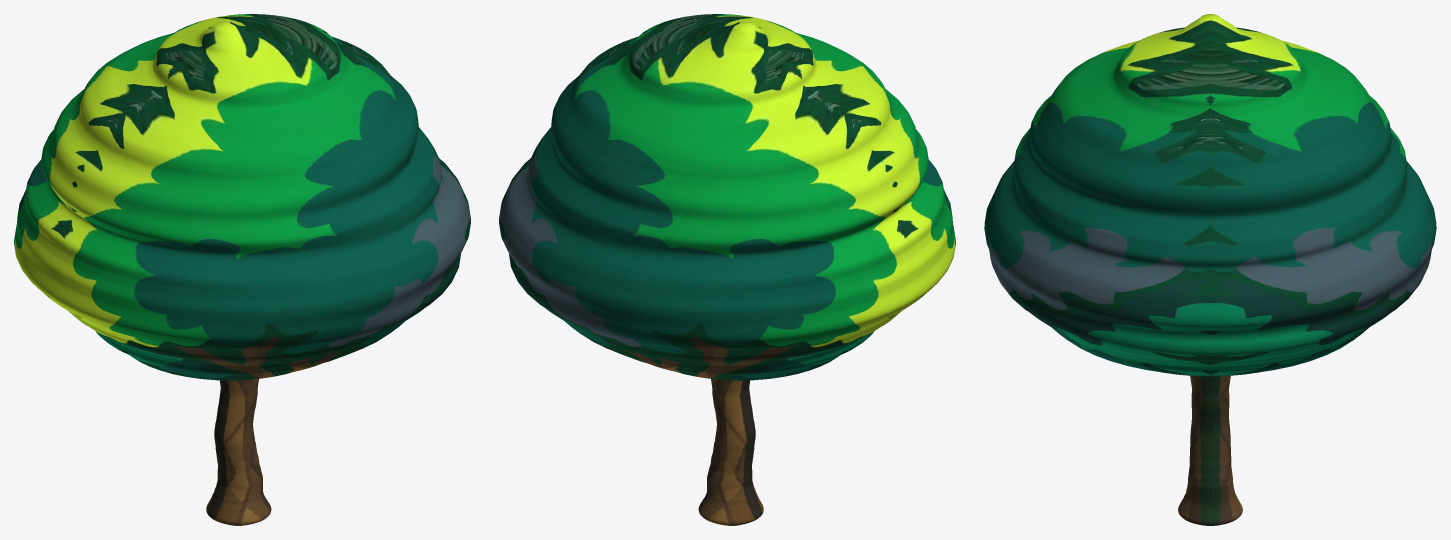
Rendered from forest_tree.glb.
The picture shows the model from 3 angles, left to right: view 1: azimuth 30°, elevation 25°; view 2: azimuth 150°, elevation 25°; view 3: azimuth 270°, elevation 25°; orthographic projection.
Parts seen in each view (by area): view 1: forest_tree; view 2: forest_tree; view 3: forest_tree.
Part boxes in pixels (x1,y1,x2,y2): forest_tree: (14,14,470,525); forest_tree: (499,14,955,525); forest_tree: (984,14,1436,525).
Bounding box in the file's own units: 0.9967 × 1.19 × 0.9884.
Materials: 1 (1 with a texture image).
